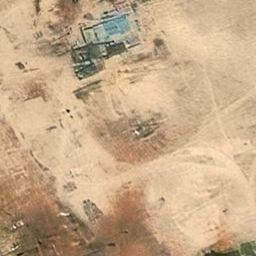manzanas: (69, 11, 141, 80)
